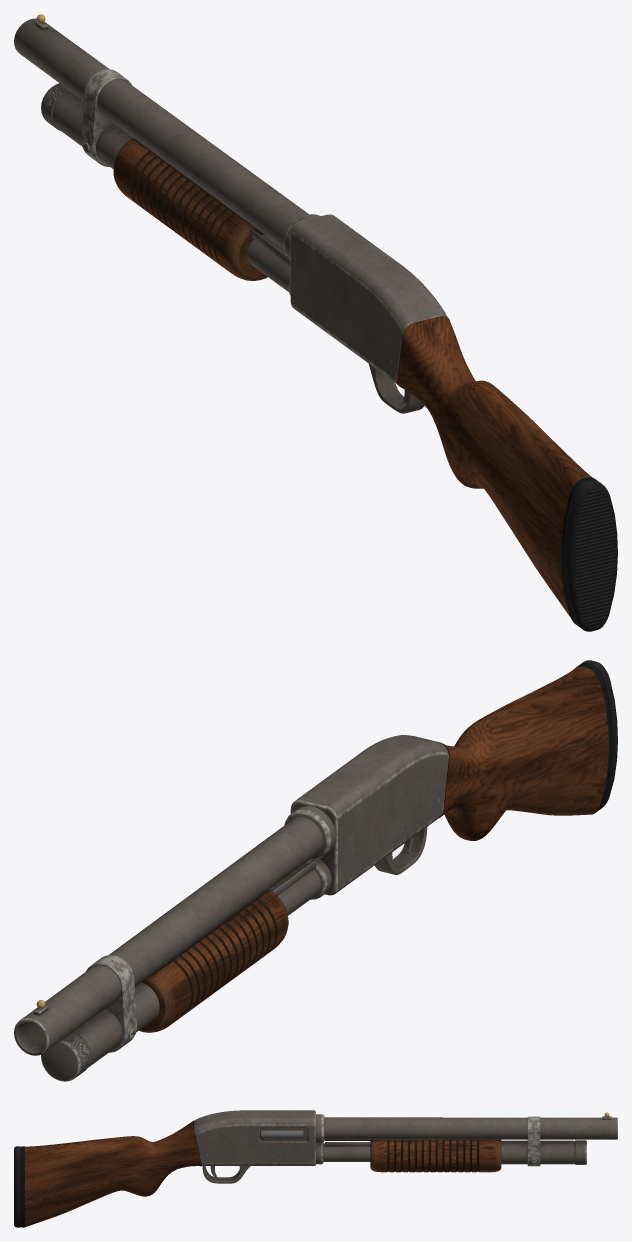
File: pump_shotgun.glb
The picture shows the model from 3 angles, top to bottom: view 1: azimuth 30°, elevation 25°; view 2: azimuth 150°, elevation 25°; view 3: azimuth 270°, elevation 25°; orthographic projection. The views are drawn at different scales.
Visible parts, largest first — view 1: stock, receiver, barrel, pump, butt_pad, magazine_tube, barrel_band, trigger_guard; view 2: stock, barrel, receiver, pump, magazine_tube, barrel_band, butt_pad, trigger_guard; view 3: stock, barrel, receiver, pump, magazine_tube, butt_pad, barrel_band, trigger_guard.
Part boxes in pixels (left/top/right/bottom): stock: left=397, top=315, right=591, bottom=616; receiver: left=290, top=214, right=447, bottom=384; barrel: left=14, top=14, right=320, bottom=259; pump: left=113, top=138, right=290, bottom=280; butt_pad: left=561, top=477, right=617, bottom=631; magazine_tube: left=41, top=83, right=290, bottom=295; barrel_band: left=81, top=69, right=132, bottom=166; trigger_guard: left=368, top=363, right=424, bottom=413; stock: left=413, top=667, right=608, bottom=840; barrel: left=14, top=805, right=336, bottom=1055; receiver: left=290, top=735, right=448, bottom=895; pump: left=139, top=859, right=316, bottom=1032; magazine_tube: left=41, top=859, right=331, bottom=1081; barrel_band: left=86, top=955, right=136, bottom=1052; butt_pad: left=573, top=660, right=617, bottom=814; trigger_guard: left=374, top=827, right=427, bottom=874; stock: left=25, top=1120, right=202, bottom=1226; barrel: left=316, top=1112, right=617, bottom=1142; receiver: left=194, top=1110, right=315, bottom=1165; pump: left=325, top=1139, right=501, bottom=1172; magazine_tube: left=316, top=1140, right=586, bottom=1164; butt_pad: left=14, top=1146, right=24, bottom=1227; barrel_band: left=527, top=1116, right=540, bottom=1166; trigger_guard: left=202, top=1166, right=250, bottom=1183.
Size of the model in its own units: 0.0629 by 0.2072 by 1.
3 materials, 3 textured.
